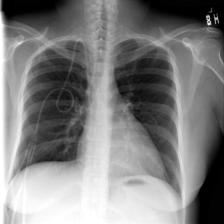normal: (7, 32, 185, 204)
